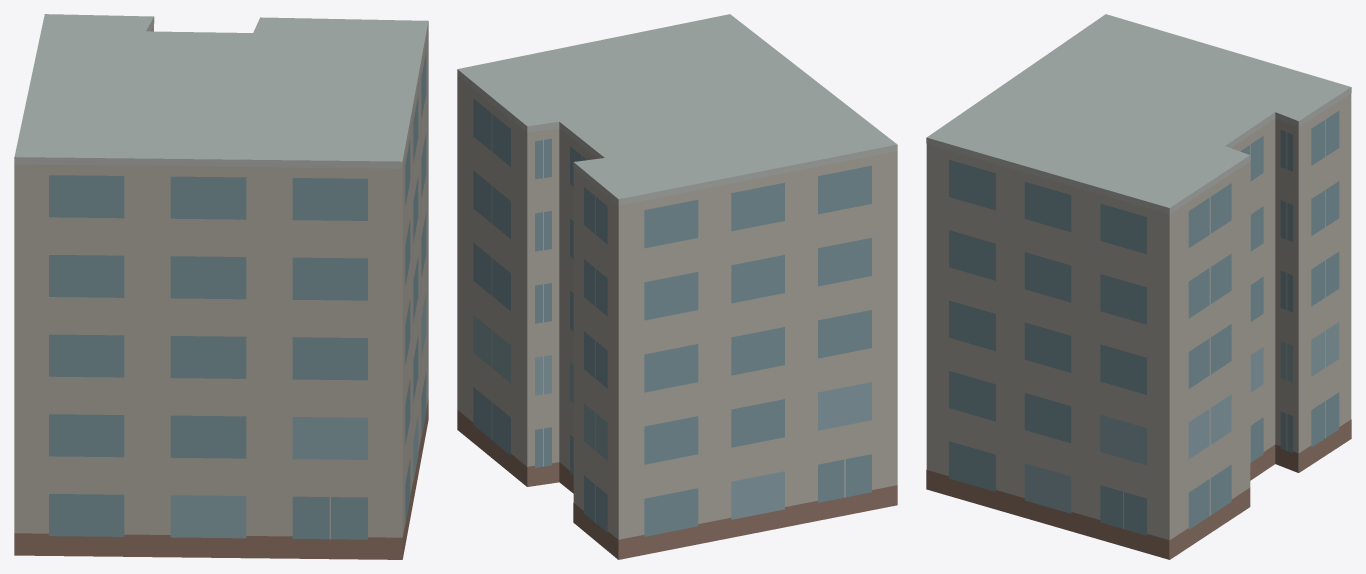
File: survey-upis-32780089.glb
The picture shows the model from 3 angles, left to right: view 1: azimuth 30°, elevation 25°; view 2: azimuth 150°, elevation 25°; view 3: azimuth 270°, elevation 25°; orthographic projection. The views are drawn at different scales.
Parts seen in each view (by area): view 1: survey-upis-32780089.tmp; view 2: survey-upis-32780089.tmp; view 3: survey-upis-32780089.tmp.
Boxes of the visible parts, x1,y1,x2,y2 form: survey-upis-32780089.tmp: [14, 14, 428, 559]; survey-upis-32780089.tmp: [457, 14, 897, 559]; survey-upis-32780089.tmp: [926, 14, 1351, 559].
Bounding box in the file's own units: 16.15 × 13.65 × 14.95.
